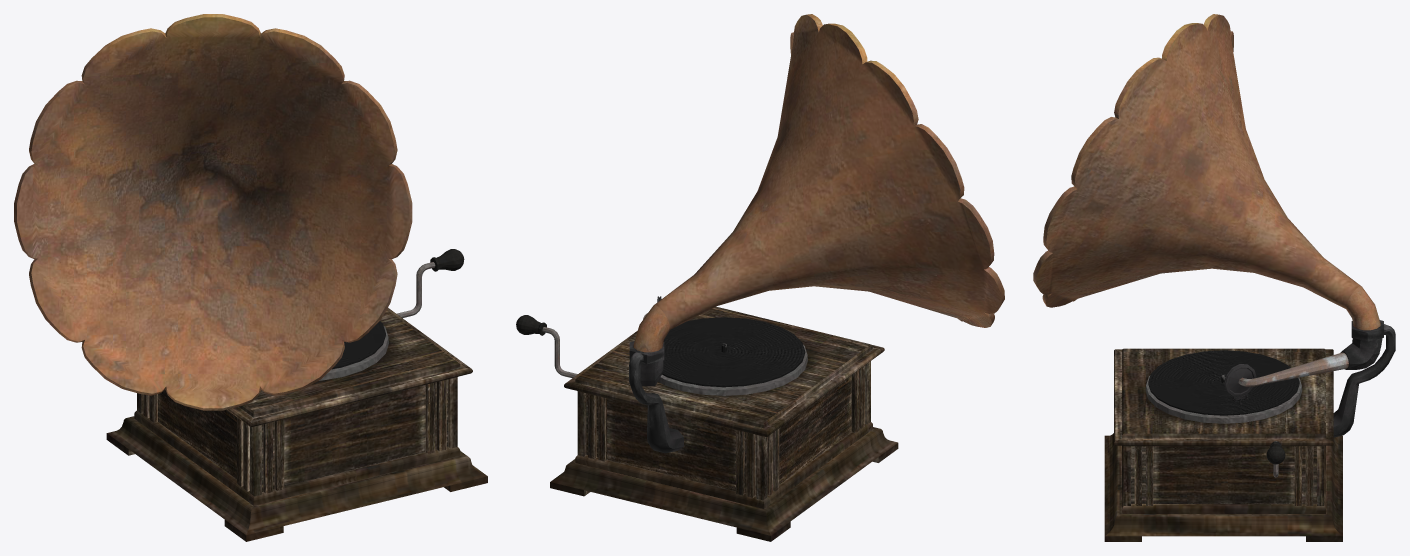
Rendered from iprops.fbx.
3 views of the same model, side by side, from view 1: azimuth 30°, elevation 25°; view 2: azimuth 150°, elevation 25°; view 3: azimuth 270°, elevation 25° (orthographic). The views are drawn at different scales.
Visible parts, largest first — view 1: Speaker, Box, Disc, Grip; view 2: Speaker, Box, Disc, Grip; view 3: Speaker (×2), Box, Disc.
Part boxes in pixels (x1=…): Speaker: x1=14, y1=14, x2=412, y2=410; Box: x1=106, y1=308, x2=487, y2=541; Disc: x1=319, y1=321, x2=388, y2=380; Grip: x1=397, y1=249, x2=464, y2=318; Speaker: x1=629, y1=14, x2=1004, y2=453; Box: x1=550, y1=306, x2=898, y2=541; Disc: x1=658, y1=317, x2=807, y2=395; Grip: x1=516, y1=315, x2=577, y2=378; Speaker (×2): x1=1033, y1=14, x2=1395, y2=437; Box: x1=1104, y1=348, x2=1342, y2=541; Disc: x1=1145, y1=350, x2=1302, y2=423.
Size of the model in its own units: 81.03 by 61.57 by 78.51.
4 materials, 4 textured.
